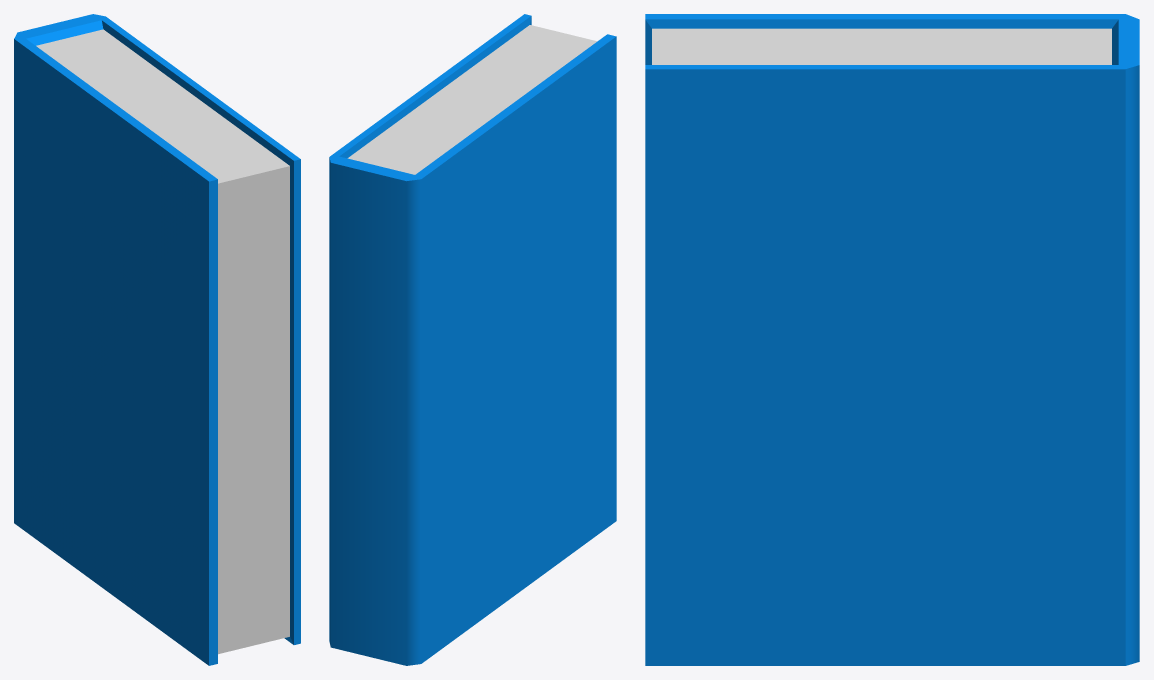
The model's file is LibroAzulGordo.fbx.
3 renders of one model, left to right at view 1: azimuth 30°, elevation 25°; view 2: azimuth 150°, elevation 25°; view 3: azimuth 270°, elevation 25°, orthographic. The views are drawn at different scales.
Parts seen in each view (by area): view 1: pCube11; view 2: pCube11; view 3: pCube11.
Part boxes in pixels (x1,y1,x2,y2): pCube11: (14,14,300,665); pCube11: (329,14,616,665); pCube11: (645,14,1139,665).
Bounding box in the file's own units: 0.1827 × 0.9214 × 0.692.
Materials: 2 (1 with a texture image).
